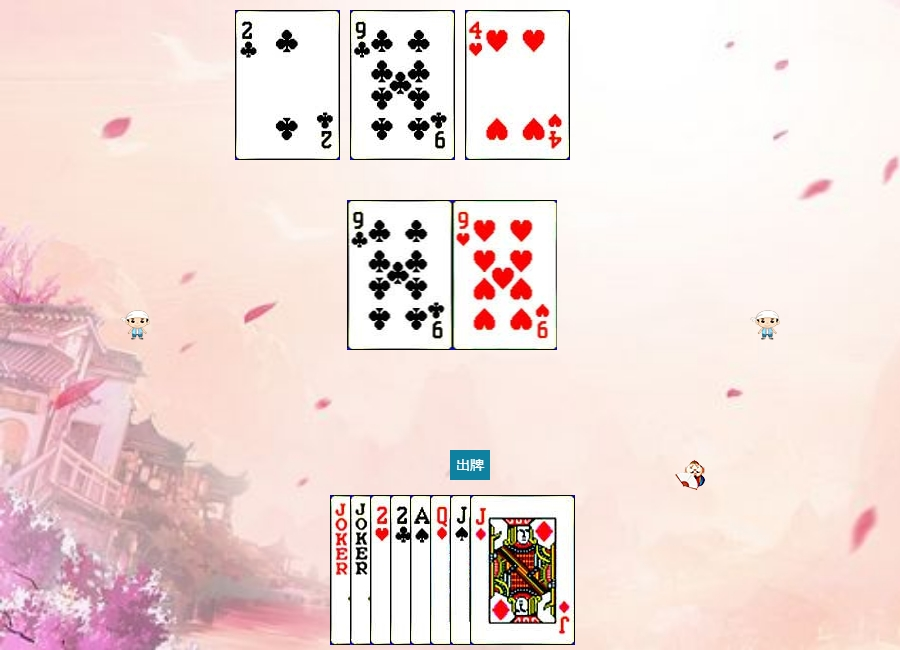11~1: (470, 495, 575, 645)
11~4: (450, 495, 555, 645)
12~1: (430, 495, 535, 645)
14~4: (410, 495, 515, 645)
15~2: (235, 10, 340, 160), (390, 495, 495, 645)
15~3: (370, 495, 475, 645)
17~3: (350, 495, 455, 645)
18~4: (330, 495, 435, 645)
4~3: (465, 10, 570, 160)
9~2: (350, 10, 455, 160), (348, 200, 453, 350)
9~3: (453, 200, 558, 350)
